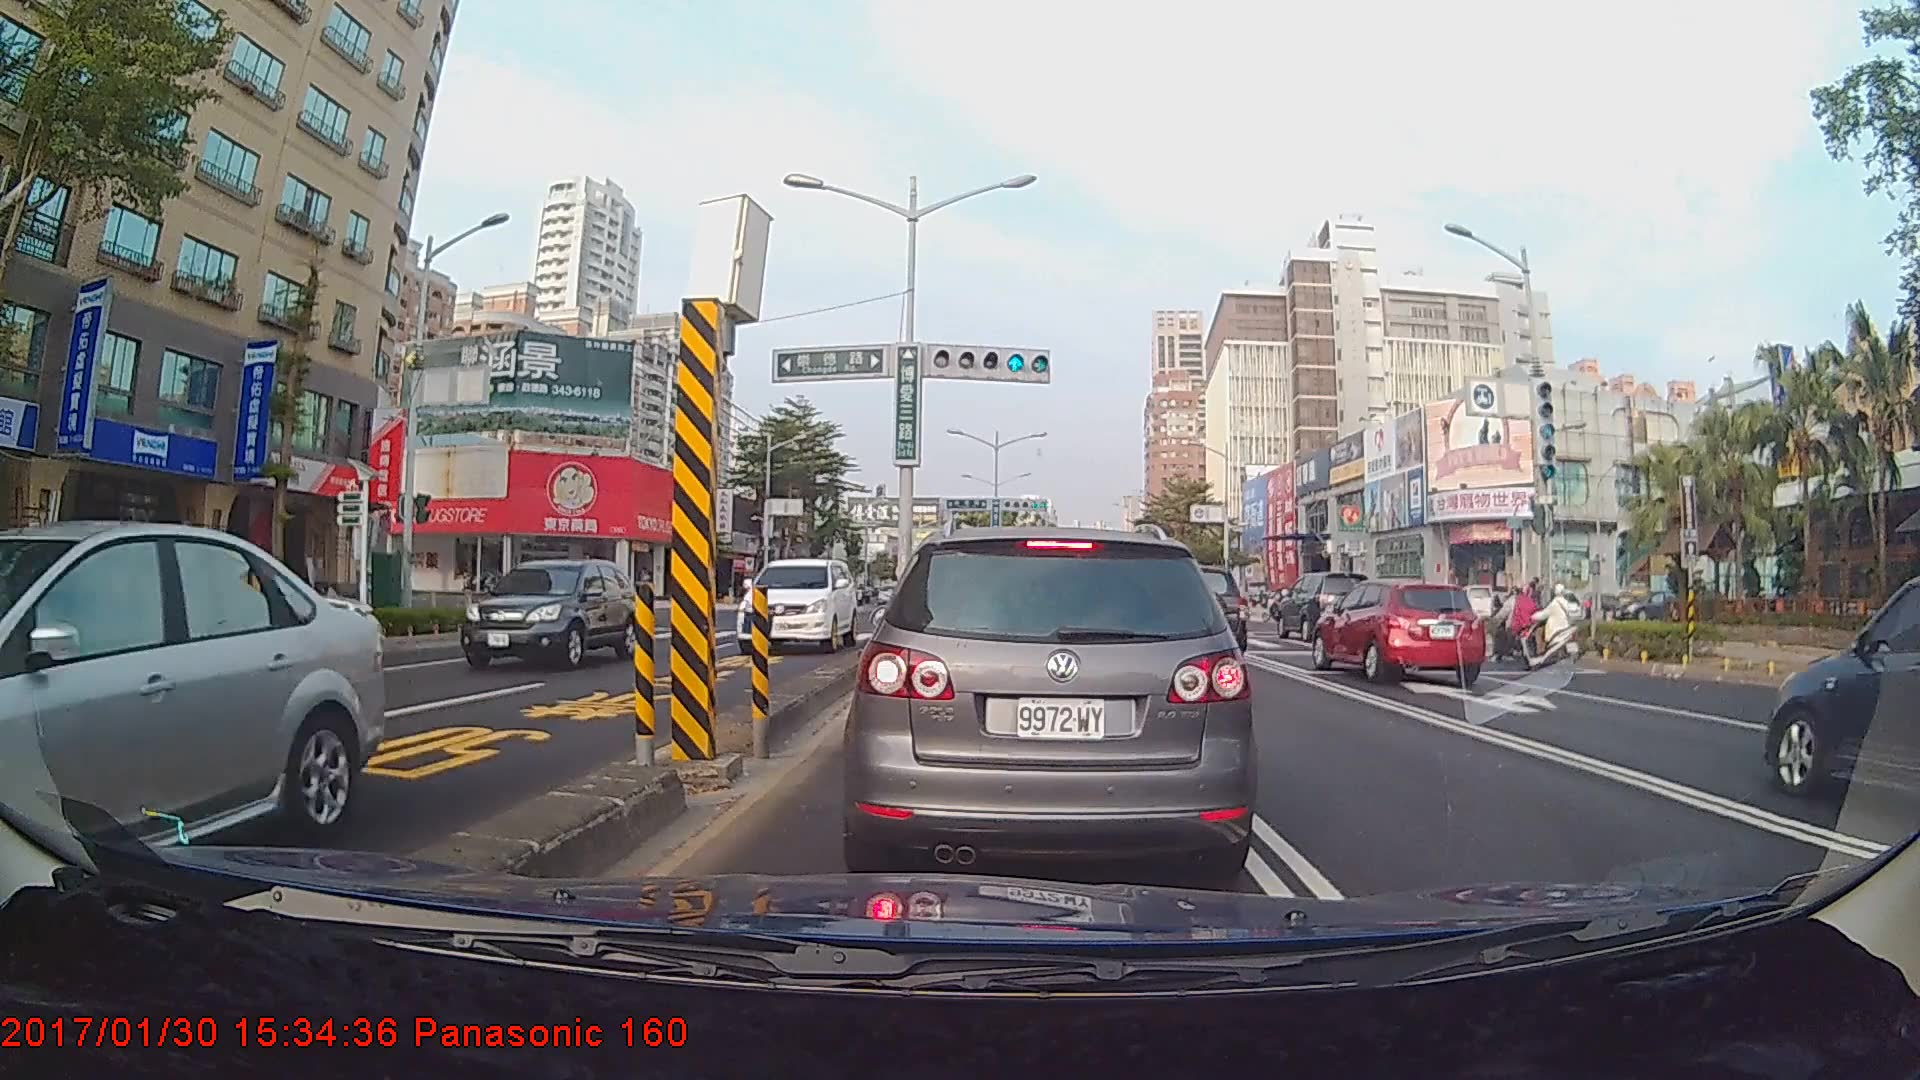rider: (1513, 586, 1583, 684), (1485, 582, 1548, 668)
vehicle: (0, 518, 386, 927), (854, 522, 1250, 878), (1763, 573, 1919, 821), (455, 557, 640, 671), (1309, 577, 1486, 686), (735, 558, 858, 654), (1140, 562, 1247, 669), (1273, 569, 1372, 640)
